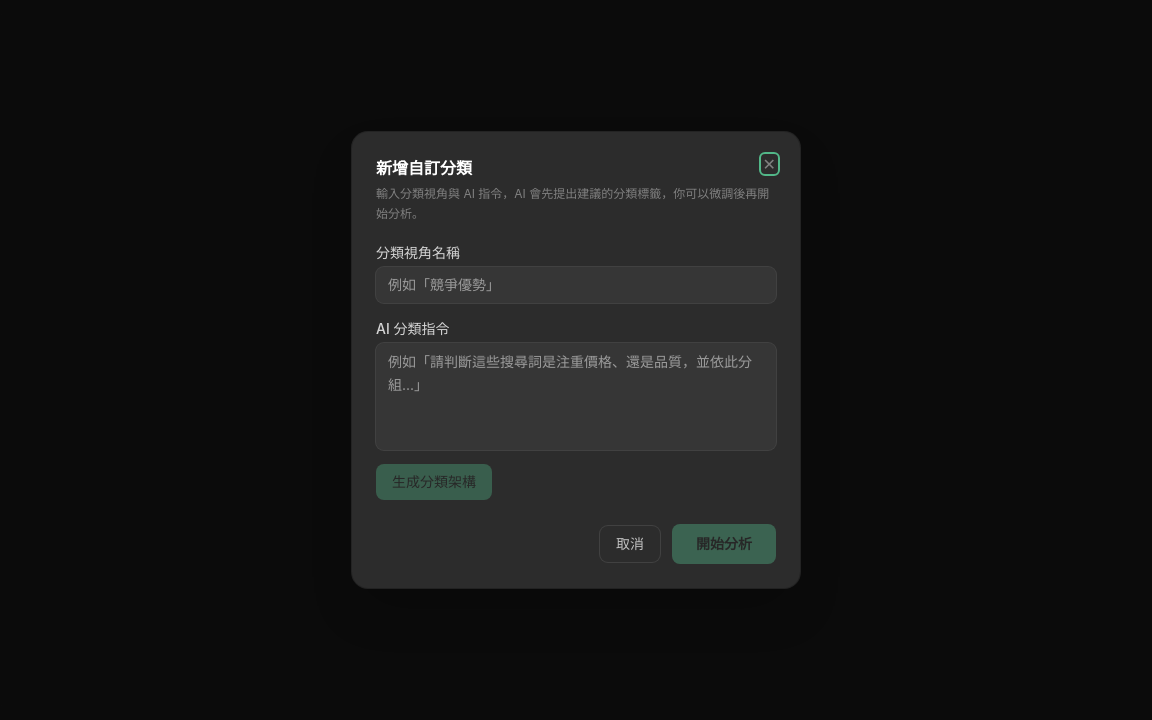
TC-26 · CustomClassifyModal (stage one) › re-disables 開始分析 when the last chip is removed
In the field labelled "分類視角名稱": x=576, y=285 left=376, top=267, right=776, bottom=303, type "競爭優勢"
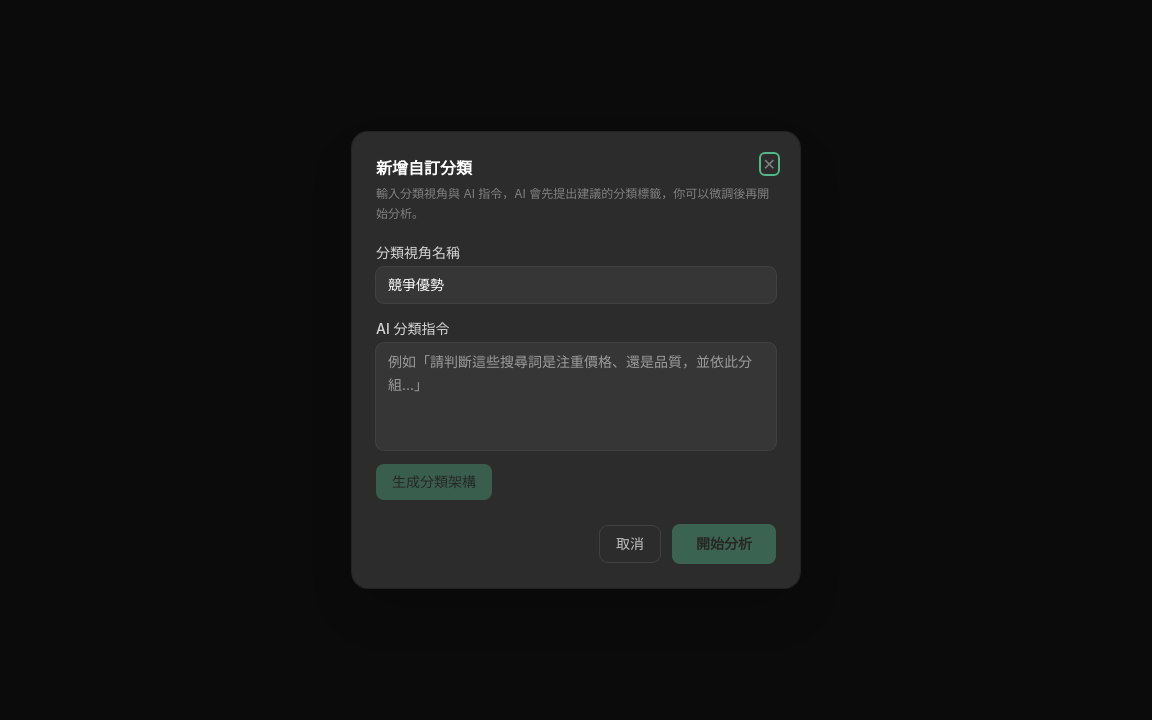
In the text box labelled "AI 分類指令": x=576, y=396 left=376, top=343, right=776, bottom=450, type "請依價格 vs 品質分組"
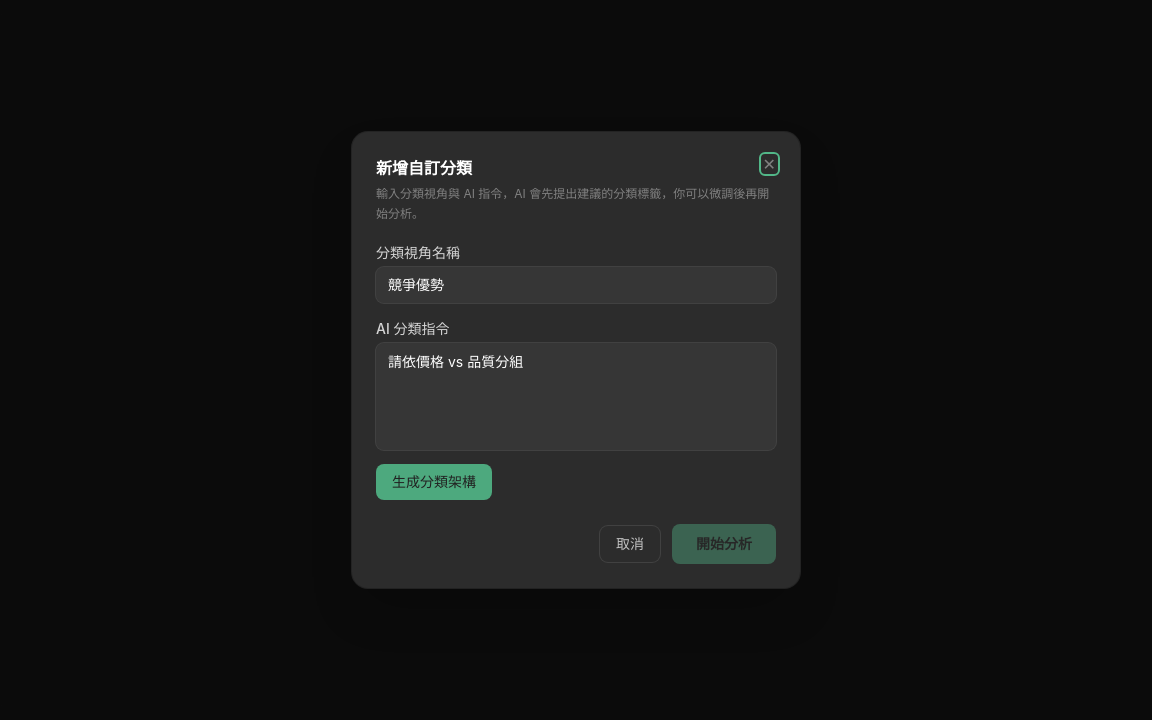
Click the button "生成分類架構": x=434, y=482 left=376, top=464, right=492, bottom=500
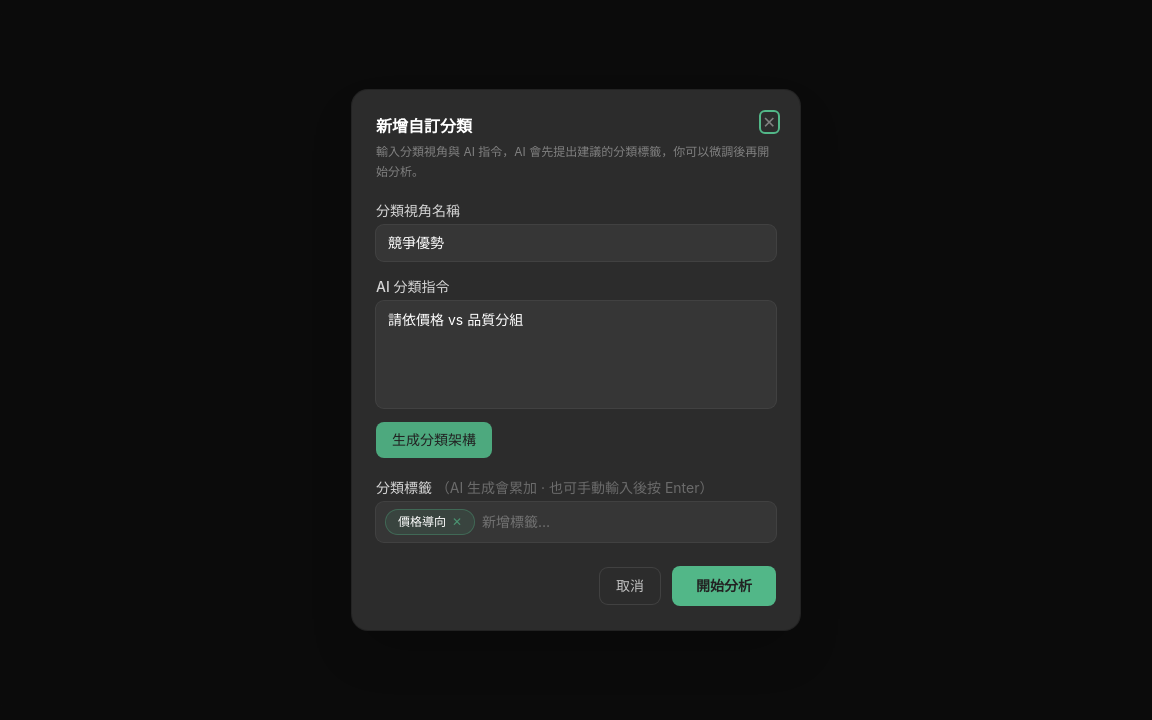
Expected: the text "價格導向" is shown, left=398, top=514, right=446, bottom=529
Expected: the button "開始分析" is enabled, left=672, top=566, right=776, bottom=606
Click the button named "移除 價格導向": x=457, y=522 left=452, top=516, right=462, bottom=528
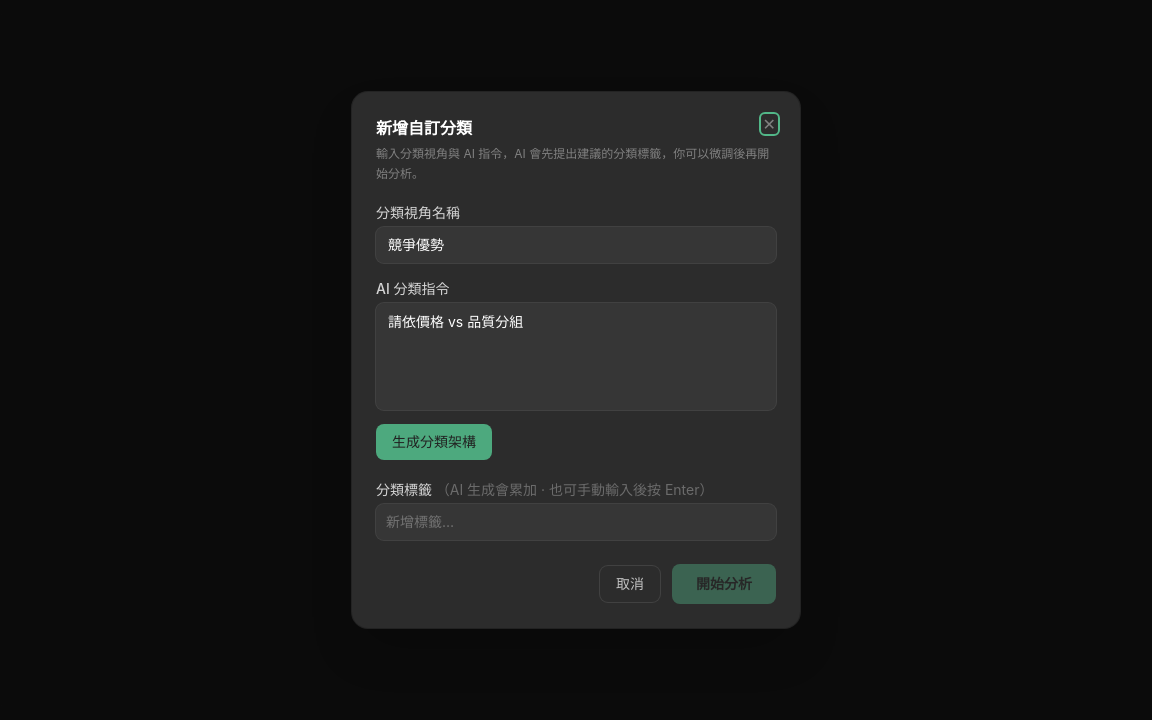
Expected: the button "開始分析" is disabled, left=672, top=564, right=776, bottom=604
